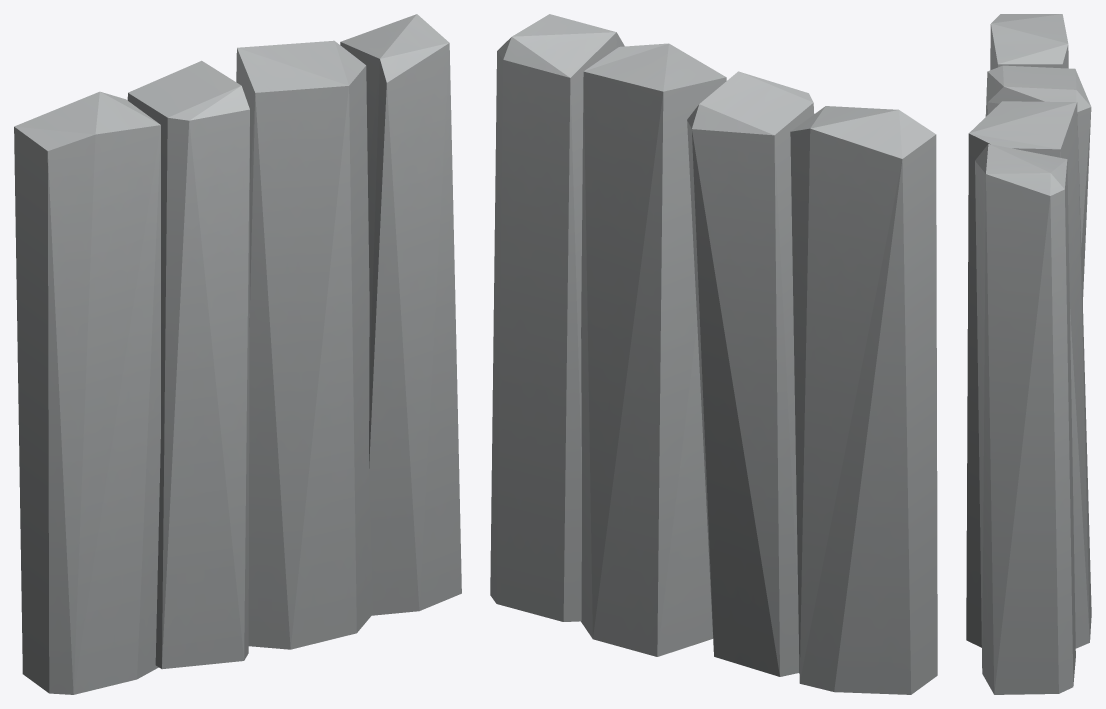
File: Rock_4.fbx
3 renders of one model, left to right at view 1: azimuth 30°, elevation 25°; view 2: azimuth 150°, elevation 25°; view 3: azimuth 270°, elevation 25°, orthographic. The views are drawn at different scales.
Parts seen in each view (by area): view 1: rock_4; view 2: rock_4; view 3: rock_4.
Boxes of the visible parts, x1,y1,x2,y2 form: rock_4: [14, 14, 461, 694]; rock_4: [490, 14, 937, 694]; rock_4: [966, 14, 1091, 694].
Size of the model in its own units: 3.5 by 4.58 by 1.
